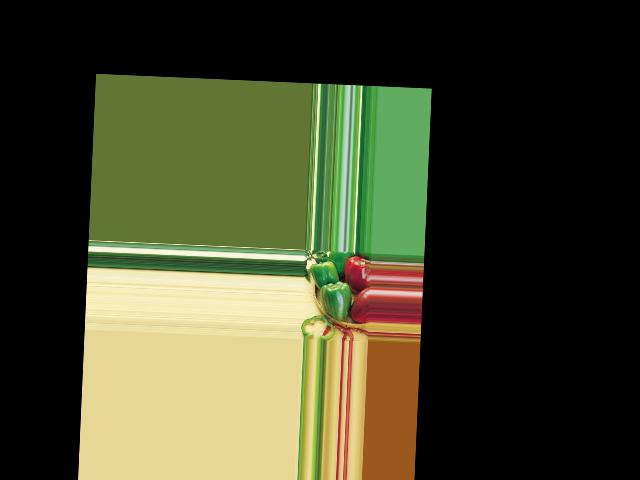bell_pepper: (351, 285, 369, 323)
